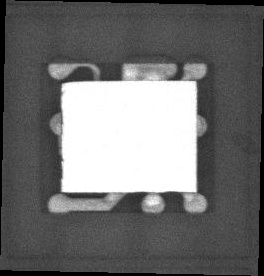DIE_BROKEN: (59, 83, 64, 192)
